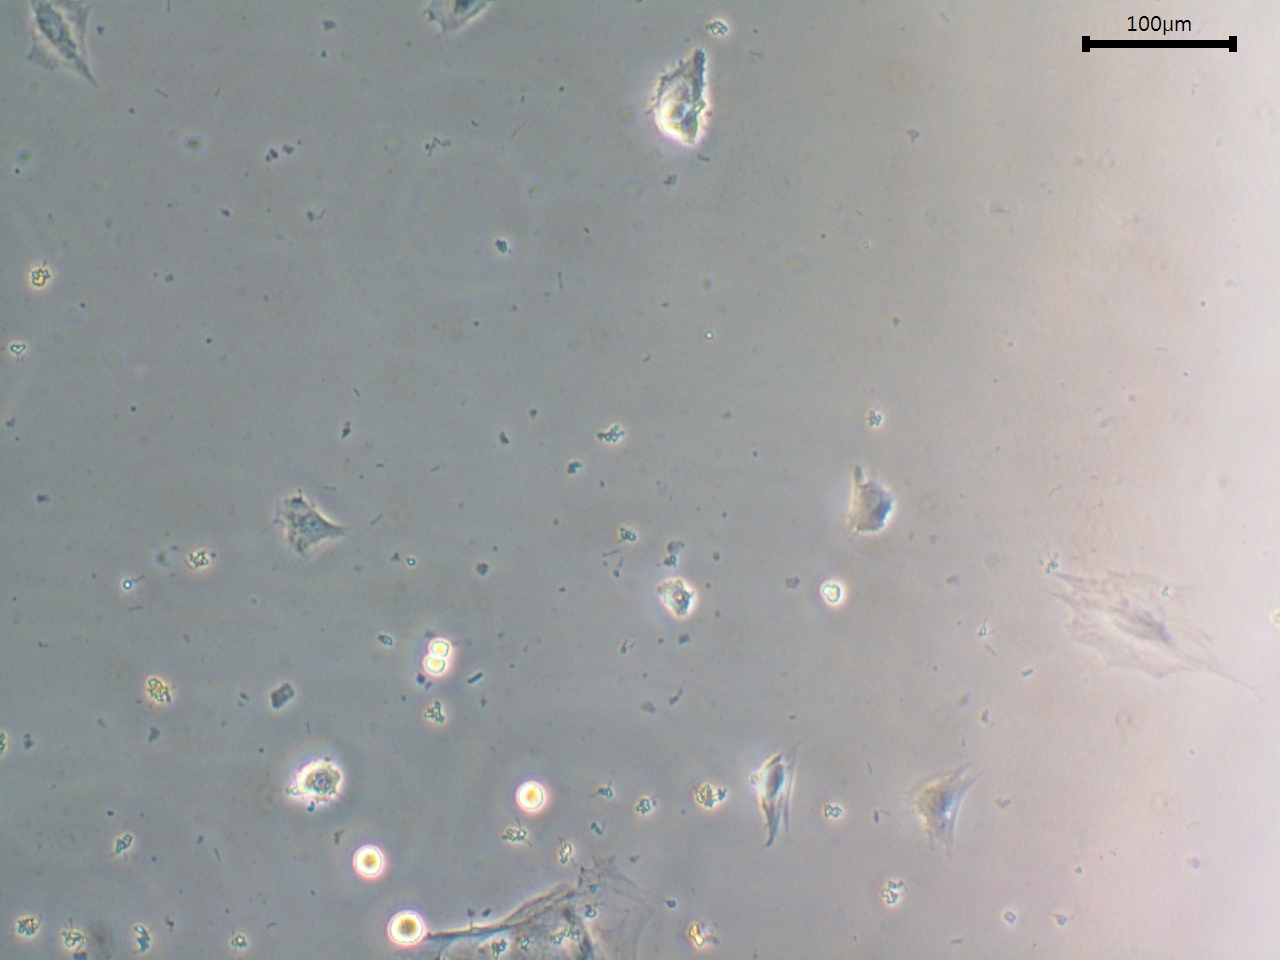medium-spread: (1008, 531, 1280, 736)
small-polygonal: (746, 736, 815, 864)
small-round: (381, 908, 429, 955), (349, 843, 391, 887), (513, 777, 549, 816)
small-spread: (887, 746, 1000, 876), (260, 473, 355, 597), (812, 457, 904, 541), (272, 751, 354, 818)
